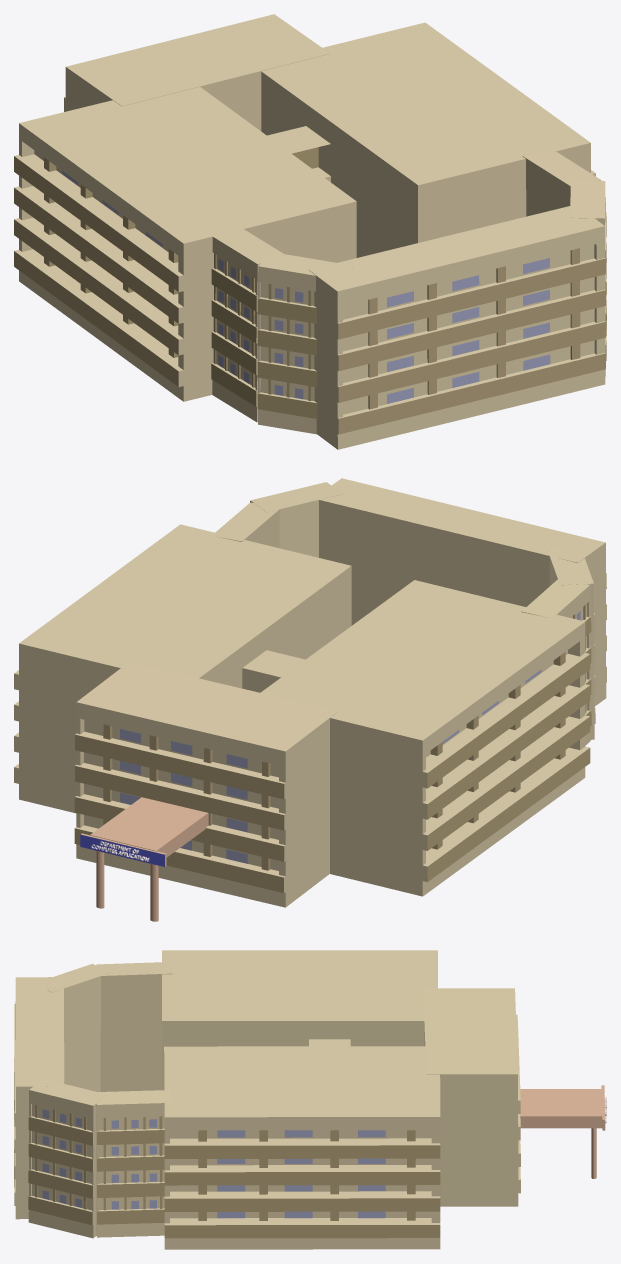
File: cse.glb
3 renders of one model, top to bottom at view 1: azimuth 30°, elevation 25°; view 2: azimuth 150°, elevation 25°; view 3: azimuth 270°, elevation 25°, orthographic. The views are drawn at different scales.
Parts seen in each view (by area): view 1: Plane.003, Plane.001, Cube.005, Plane.007, Plane.002, Plane.004, Plane.006, Plane.005, Cube.011; view 2: Plane.003, Plane.007, Cube.005, Plane.001, Cube, Plane.005, Plane.004, Plane.006, Plane.002, Cube.011, Cube.002; view 3: Cube.005, Plane.003, Plane.007, Plane.006, Plane.005, Plane.004, Plane.001, Plane.002, Cube.
Part boxes in pixels (box(x1,y1,x2,y2)): Plane.003: box(14, 87, 356, 401); Plane.001: box(309, 204, 605, 449); Cube.005: box(261, 22, 595, 257); Plane.007: box(64, 14, 330, 130); Plane.002: box(257, 252, 353, 434); Plane.004: box(209, 224, 285, 422); Plane.006: box(522, 149, 600, 216); Plane.005: box(570, 180, 606, 376); Cube.011: box(267, 126, 330, 182); Plane.003: box(260, 580, 590, 896); Plane.007: box(74, 662, 337, 907); Cube.005: box(14, 524, 351, 813); Plane.001: box(313, 478, 606, 706); Cube: box(90, 797, 208, 865); Plane.005: box(250, 482, 342, 557); Plane.004: box(521, 578, 591, 745); Plane.006: box(214, 502, 280, 548); Plane.002: box(547, 547, 595, 739); Cube.011: box(242, 650, 304, 692); Cube.002: box(80, 833, 166, 866); Cube.005: box(164, 1046, 440, 1249); Plane.003: box(162, 950, 437, 1090); Plane.007: box(423, 988, 520, 1206); Plane.006: box(95, 1090, 170, 1237); Plane.005: box(28, 1079, 107, 1238); Plane.004: box(96, 962, 172, 1091); Plane.001: box(14, 977, 64, 1219); Plane.002: box(44, 963, 110, 1091); Cube: box(520, 1089, 602, 1128).
Size of the model in its own units: 19.53 by 7.08 by 28.61.
